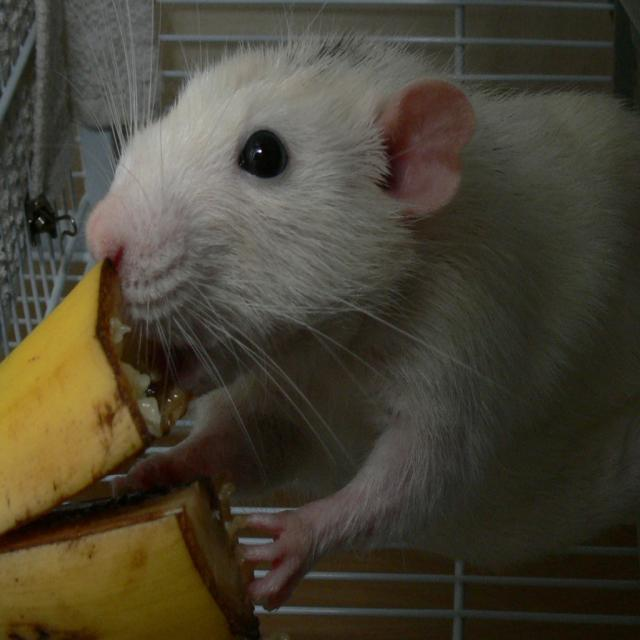rat: (80, 35, 640, 613)
